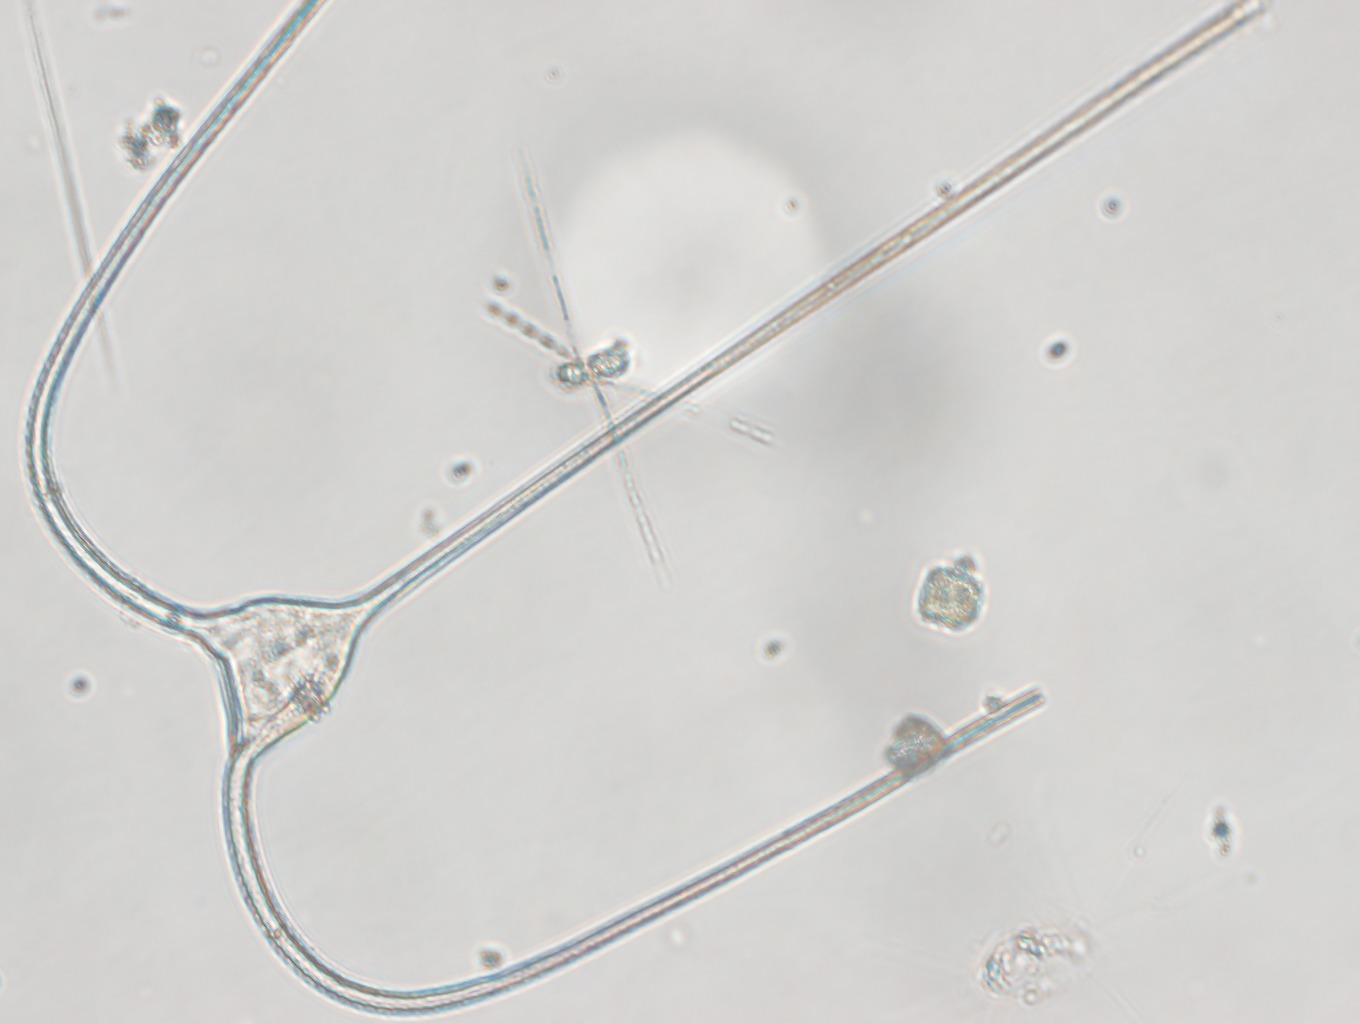ceratium trichoceros: (22, 1, 1272, 1016)
